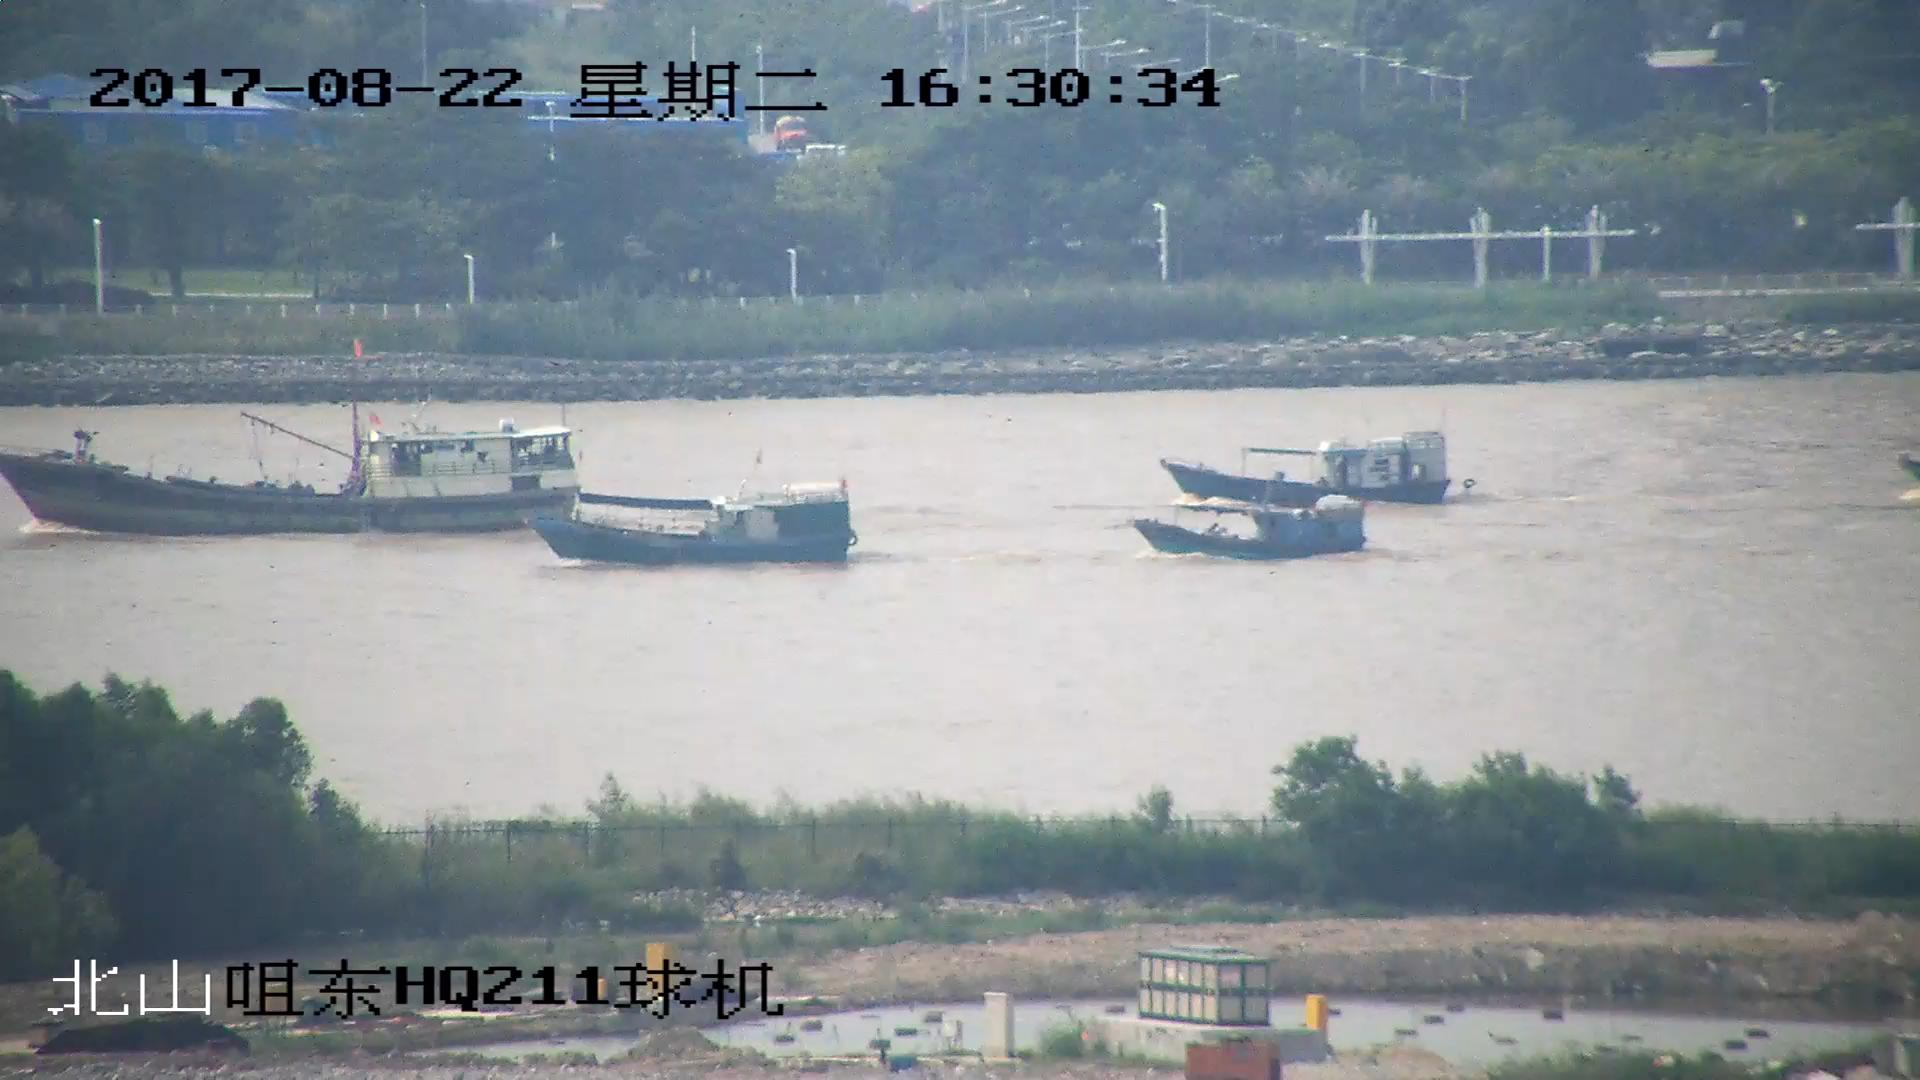fishing boat: (1, 346, 584, 537), (531, 484, 857, 569), (1168, 431, 1448, 508), (1131, 497, 1367, 559)
